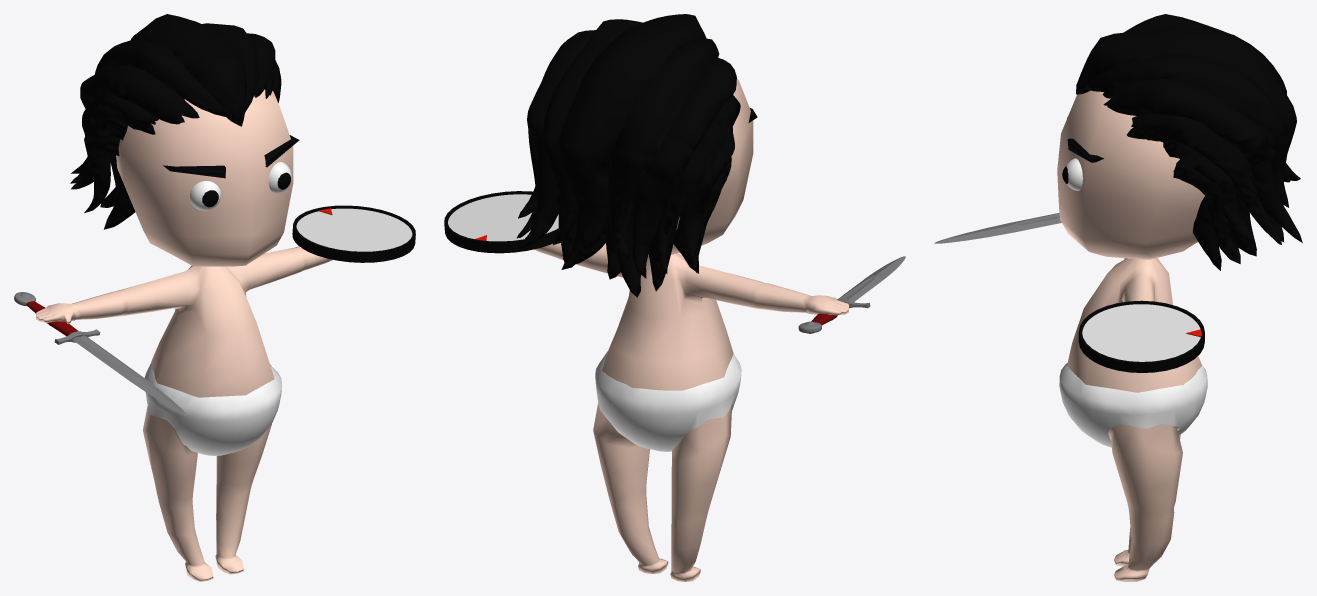
File: NewCharacter_swordshield_tougouari.fbx
3 views of the same model, side by side, from view 1: azimuth 30°, elevation 25°; view 2: azimuth 150°, elevation 25°; view 3: azimuth 270°, elevation 25° (orthographic). The views are drawn at different scales.
Visible parts, largest first — view 1: Body; view 2: Body; view 3: Body.
Boxes of the visible parts, x1,y1,x2,y2 form: Body: (14,14,415,581); Body: (444,14,905,581); Body: (934,14,1302,581).
Size of the model in its own units: 76.89 by 104 by 64.52.
